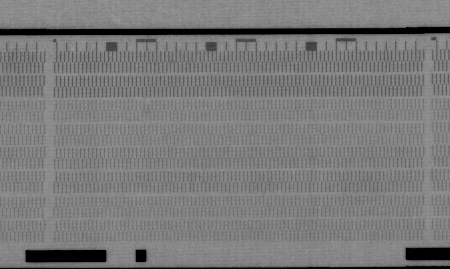Oblique printing: (143, 99, 155, 116)
